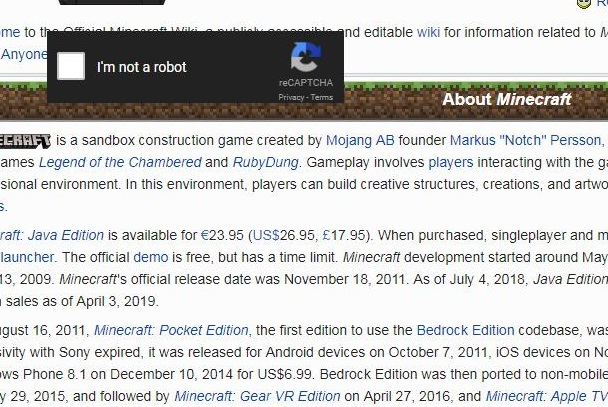captcha: (56, 51, 188, 81)
